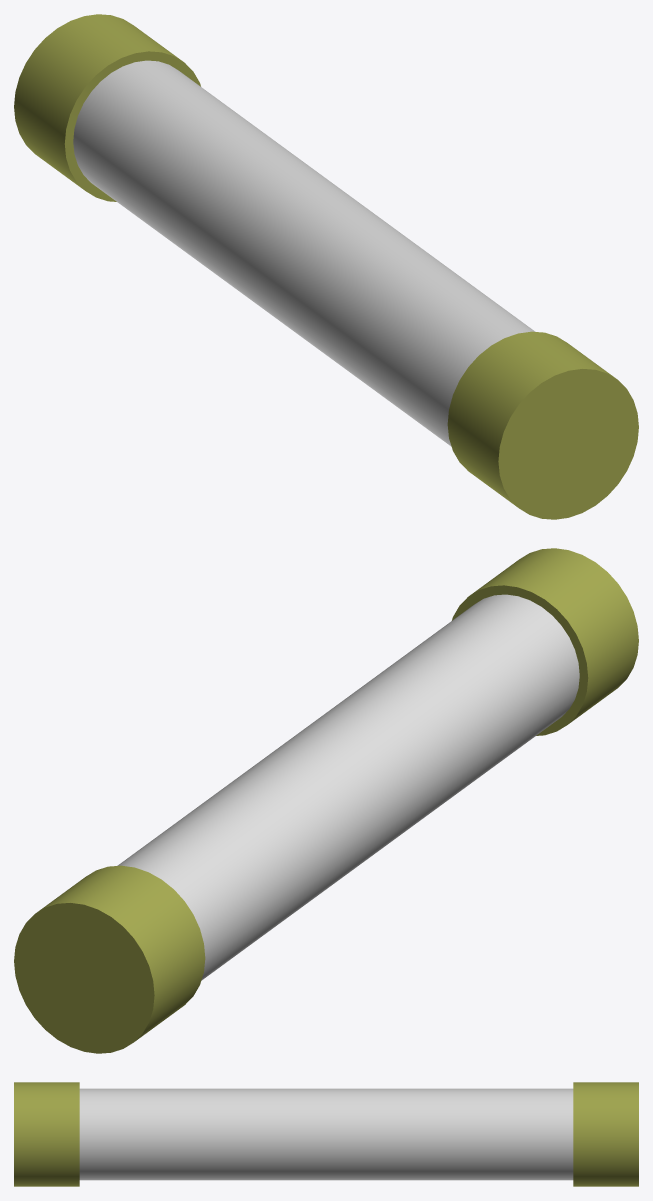
File: 1fuseYelow.fbx
3 renders of one model, top to bottom at view 1: azimuth 30°, elevation 25°; view 2: azimuth 150°, elevation 25°; view 3: azimuth 270°, elevation 25°, orthographic. The views are drawn at different scales.
Visible parts, largest first — view 1: 円柱; view 2: 円柱; view 3: 円柱.
Part boxes in pixels (x1,y1,x2,y2): 円柱: (14,14,638,519); 円柱: (14,548,638,1053); 円柱: (14,1082,638,1186).
Bounding box in the file's own units: 237 × 237 × 1416.
